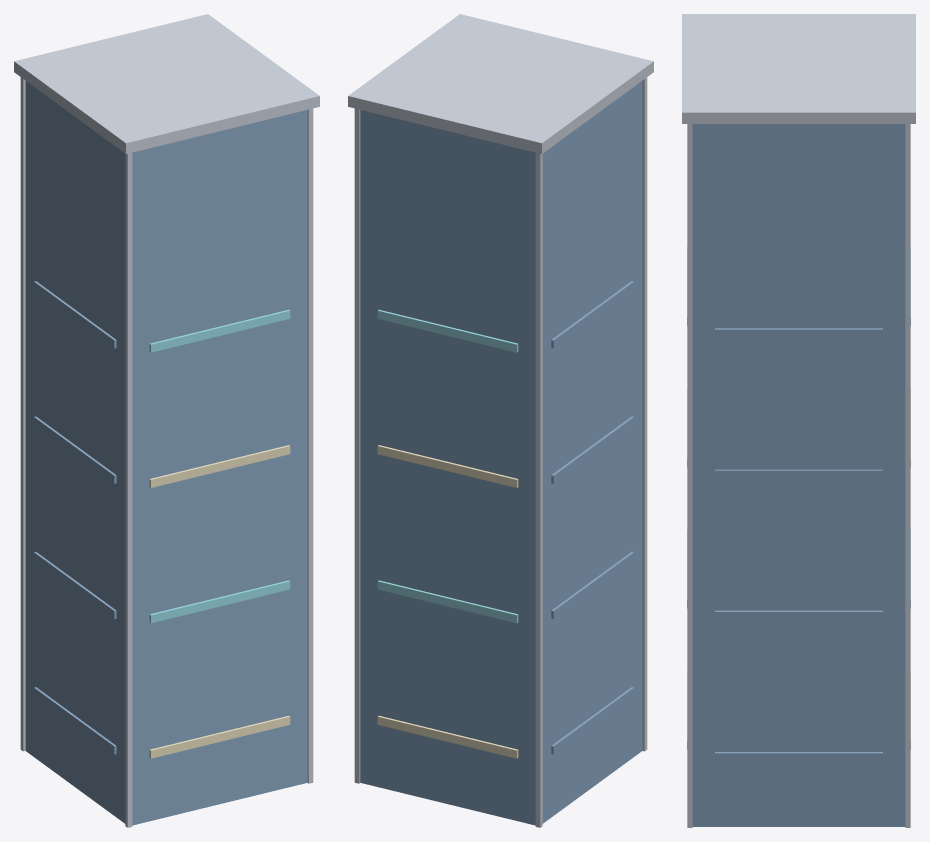
The model's file is rascacielos_bajo.glb.
3 renders of one model, left to right at view 1: azimuth 30°, elevation 25°; view 2: azimuth 150°, elevation 25°; view 3: azimuth 270°, elevation 25°, orthographic. The views are drawn at different scales.
Parts seen in each view (by area): view 1: rascacielos_bajo; view 2: rascacielos_bajo; view 3: rascacielos_bajo.
Boxes of the visible parts, left/top/right/bottom form: rascacielos_bajo: left=14, top=14, right=319, bottom=827; rascacielos_bajo: left=348, top=14, right=653, bottom=827; rascacielos_bajo: left=682, top=14, right=915, bottom=827.
Size of the model in its own units: 3 by 10.16 by 3.
